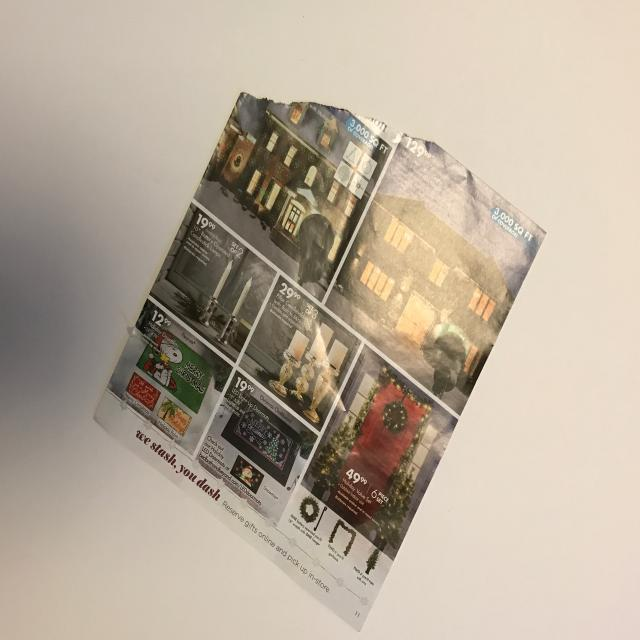paper: (93, 91, 548, 634)
